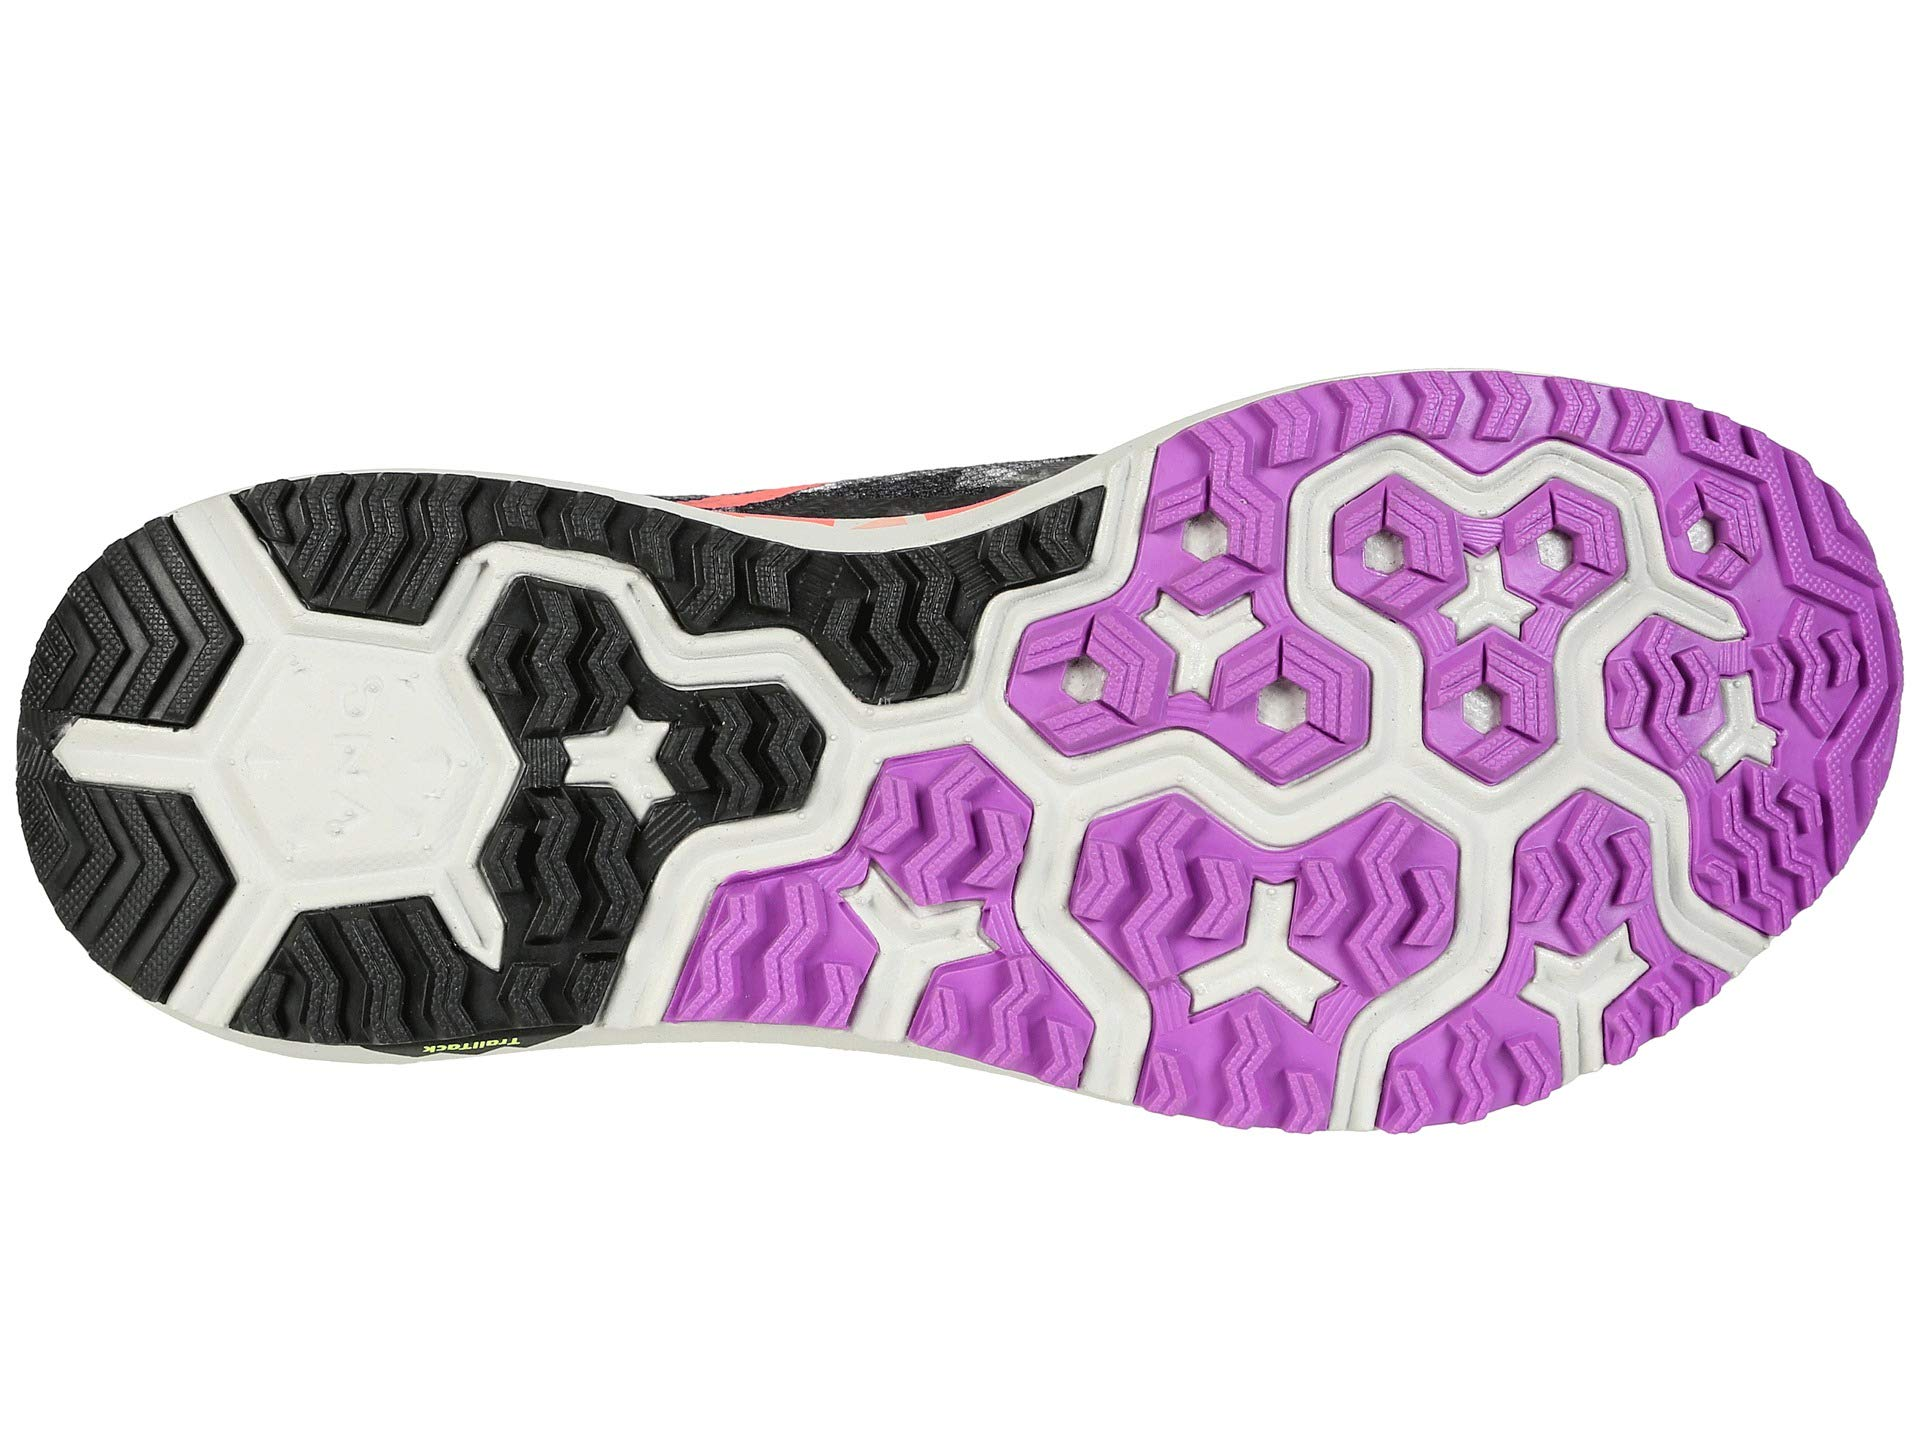chevron: (1101, 764, 1433, 1095), (1332, 457, 1643, 799), (748, 776, 1075, 1082), (1665, 628, 1885, 870), (488, 681, 724, 867), (1107, 551, 1308, 768), (32, 542, 210, 725)
polygon: (180, 596, 513, 932)
quad: (1332, 457, 1643, 799), (1107, 551, 1308, 768)
star: (1101, 764, 1433, 1095), (1332, 457, 1643, 799), (748, 776, 1075, 1082), (1665, 628, 1885, 870), (488, 681, 724, 867), (1107, 551, 1308, 768)
text: (180, 596, 513, 932)
